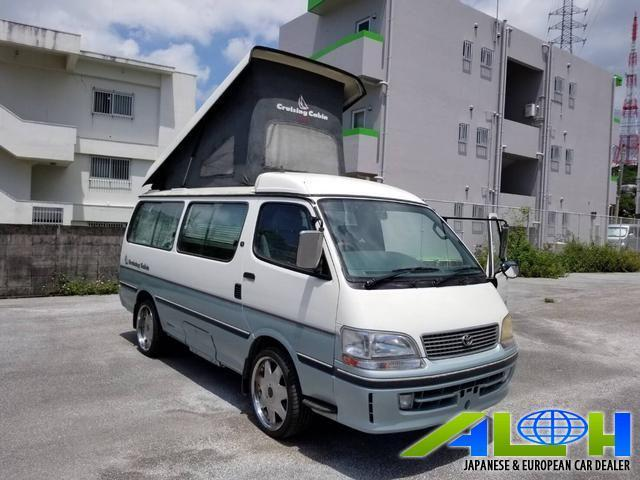Van: (118, 176, 518, 436)
